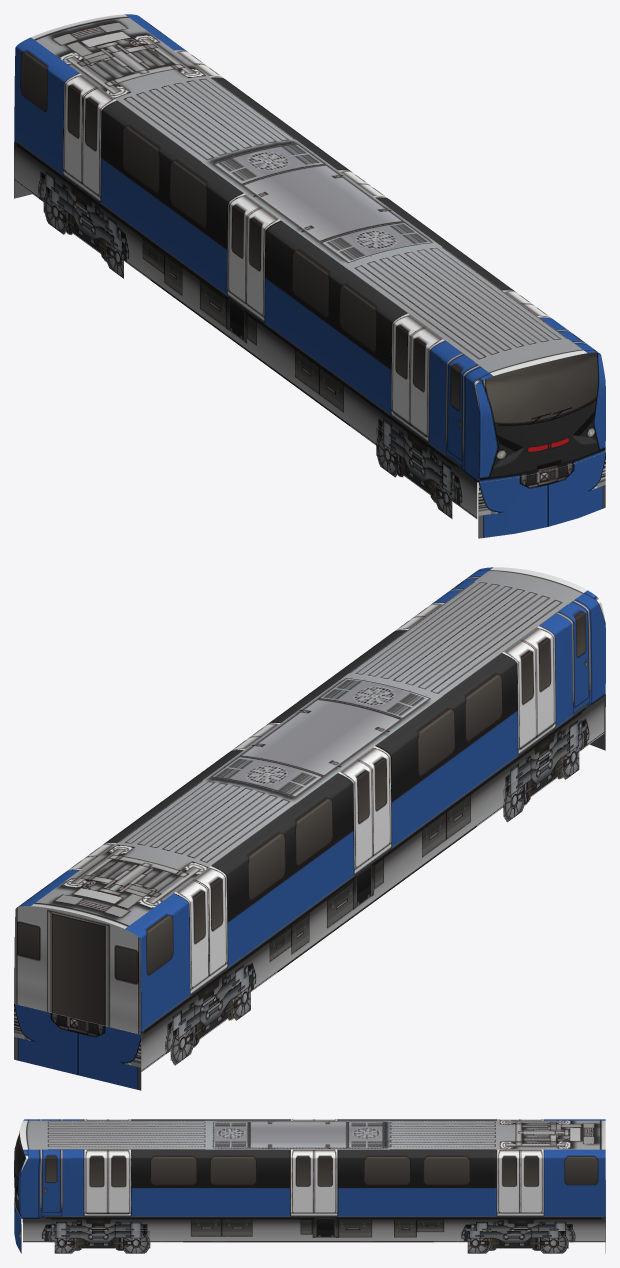
Rendered from car1.glb.
3 views of the same model, one above another, from view 1: azimuth 30°, elevation 25°; view 2: azimuth 150°, elevation 25°; view 3: azimuth 270°, elevation 25° (orthographic). The views are drawn at different scales.
Visible parts, largest first — view 1: shizuoka-a3000-car1; view 2: shizuoka-a3000-car1; view 3: shizuoka-a3000-car1.
Part boxes in pixels (<box>): shizuoka-a3000-car1: <box>14,14,605,538</box>; shizuoka-a3000-car1: <box>14,567,605,1090</box>; shizuoka-a3000-car1: <box>14,1119,605,1253</box>.
Bounding box in the file's own units: 2.74 × 3.32 × 17.59.
Materials: 8 (7 with a texture image).
